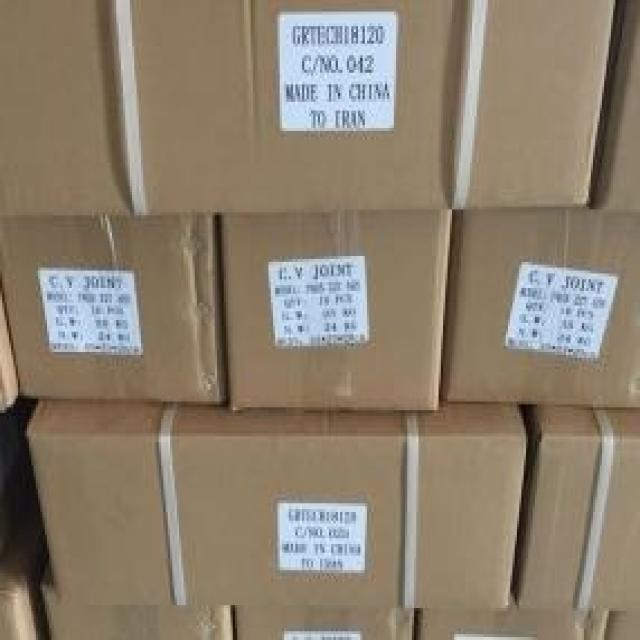box: (0, 1, 618, 218), (25, 398, 527, 610), (220, 209, 453, 410), (0, 218, 220, 405), (442, 209, 638, 410), (511, 409, 638, 608), (40, 554, 234, 636), (416, 591, 638, 637), (591, 2, 638, 212), (0, 481, 45, 637), (233, 603, 417, 637), (0, 294, 21, 413)
